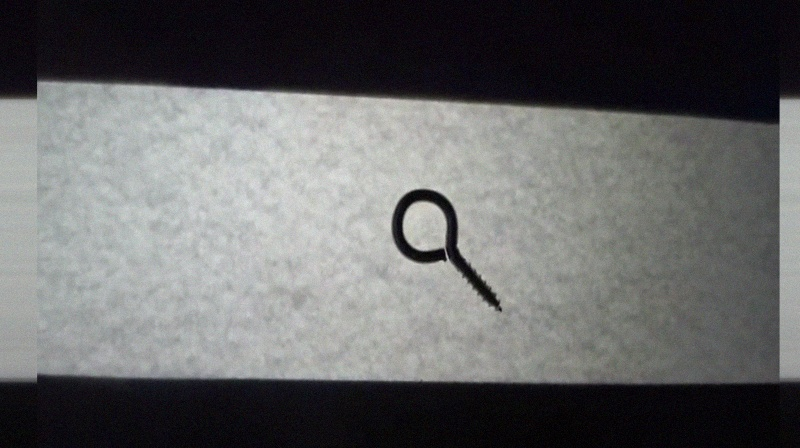O001: (389, 185, 506, 317)
